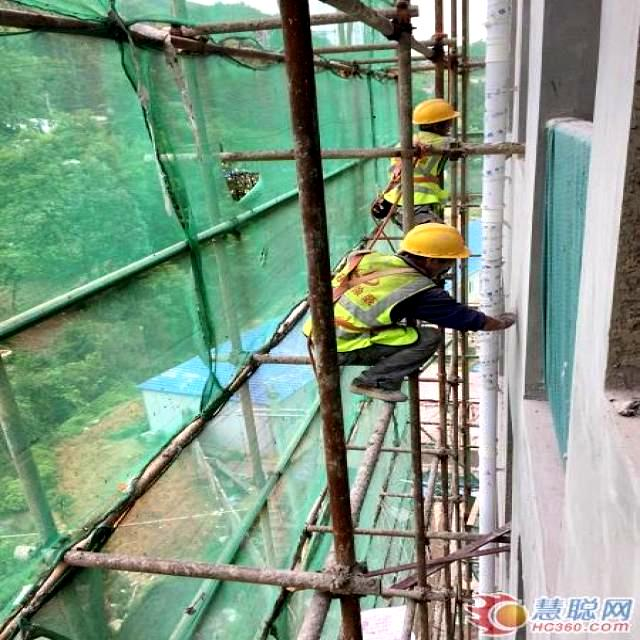hard_hat: (398, 223, 469, 261), (412, 98, 459, 127)
person: (333, 225, 513, 396), (369, 97, 458, 222)
